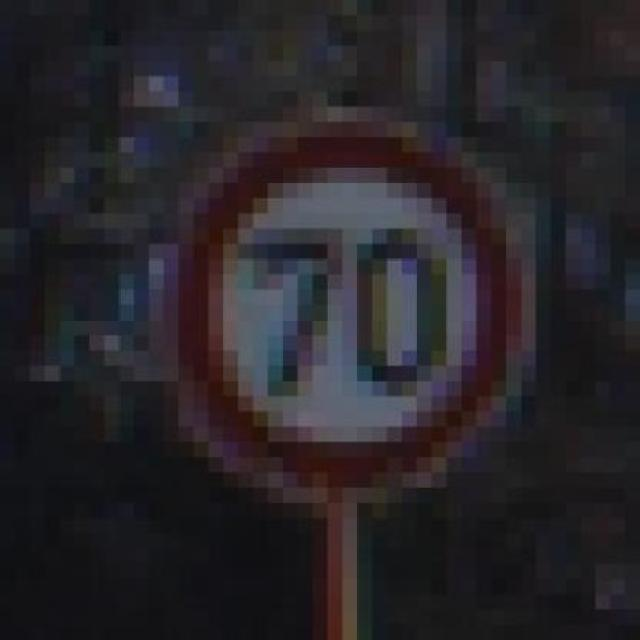forb_speed_over_70: (174, 124, 518, 485)
